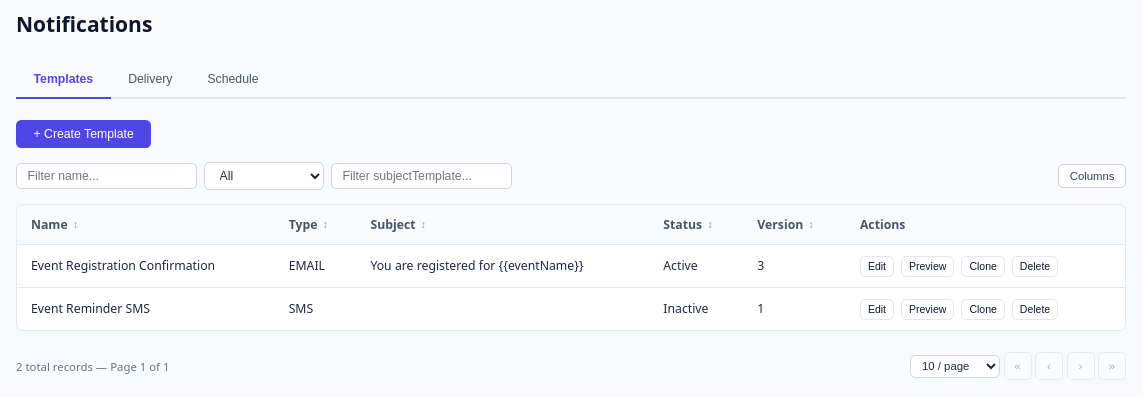
it: NotificationsContent › Retry button visibility logic › does not show Retry button for SENT status
The width and height of the screenshot is (1143, 397).
Click the tab "Delivery" at coordinates (150, 80), box 111,62 -> 190,98
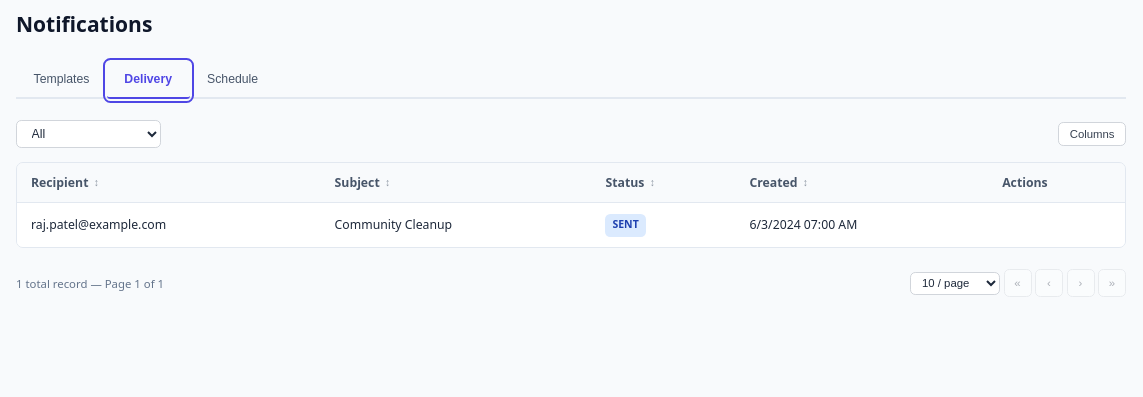
Now the text "raj.patel@example.com" is shown, box 17,203 -> 321,247
